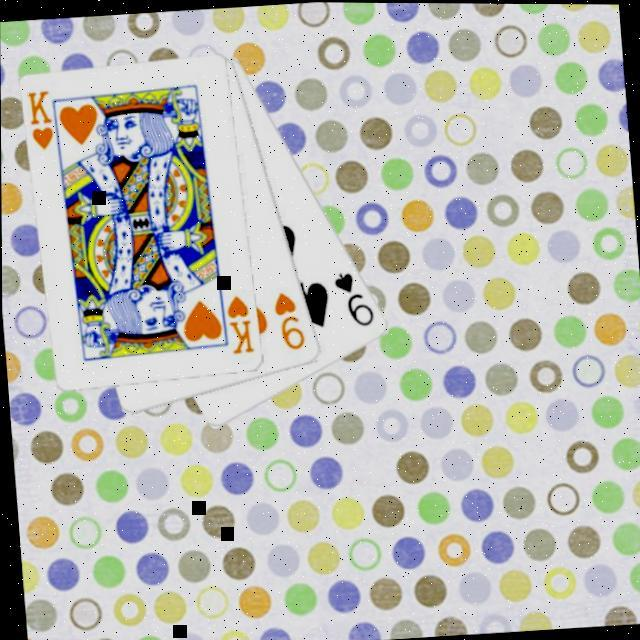9H: (270, 286, 310, 352)
9S: (330, 264, 378, 330)
KH: (224, 290, 258, 356), (25, 85, 58, 153)
